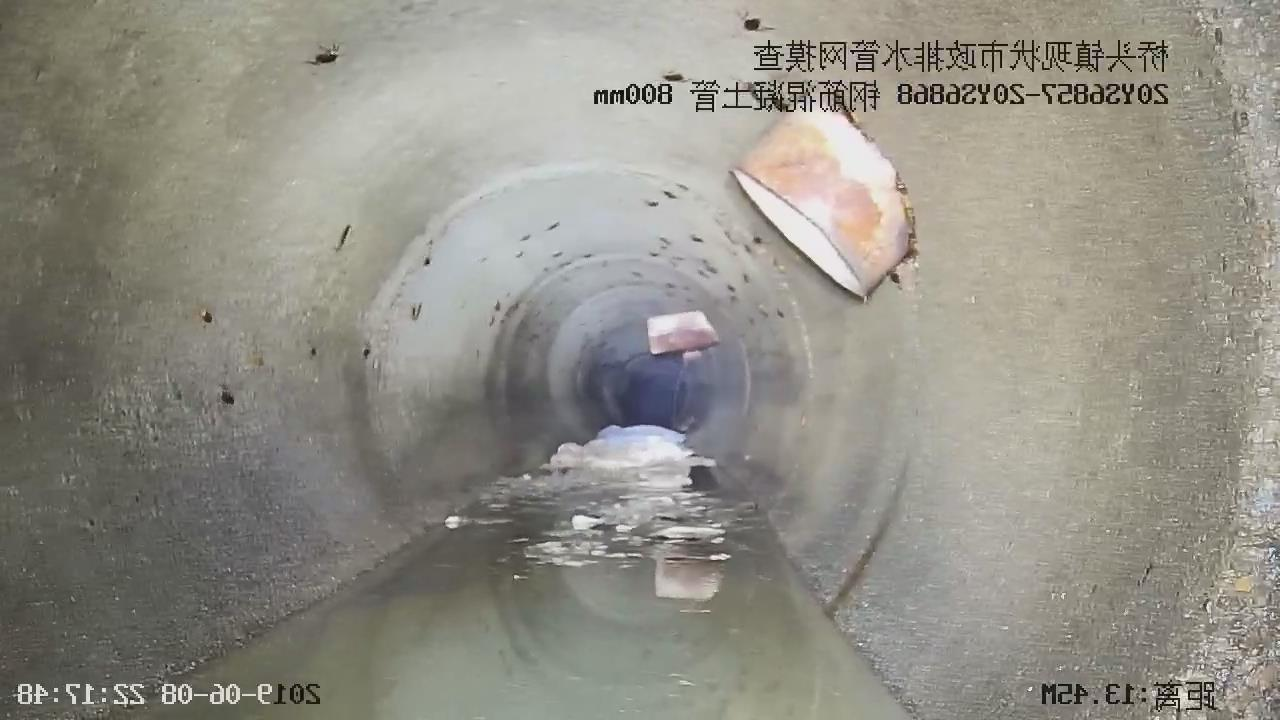CJ: (446, 425, 755, 600)
ZGAJ: (733, 109, 912, 298), (648, 311, 719, 357)
